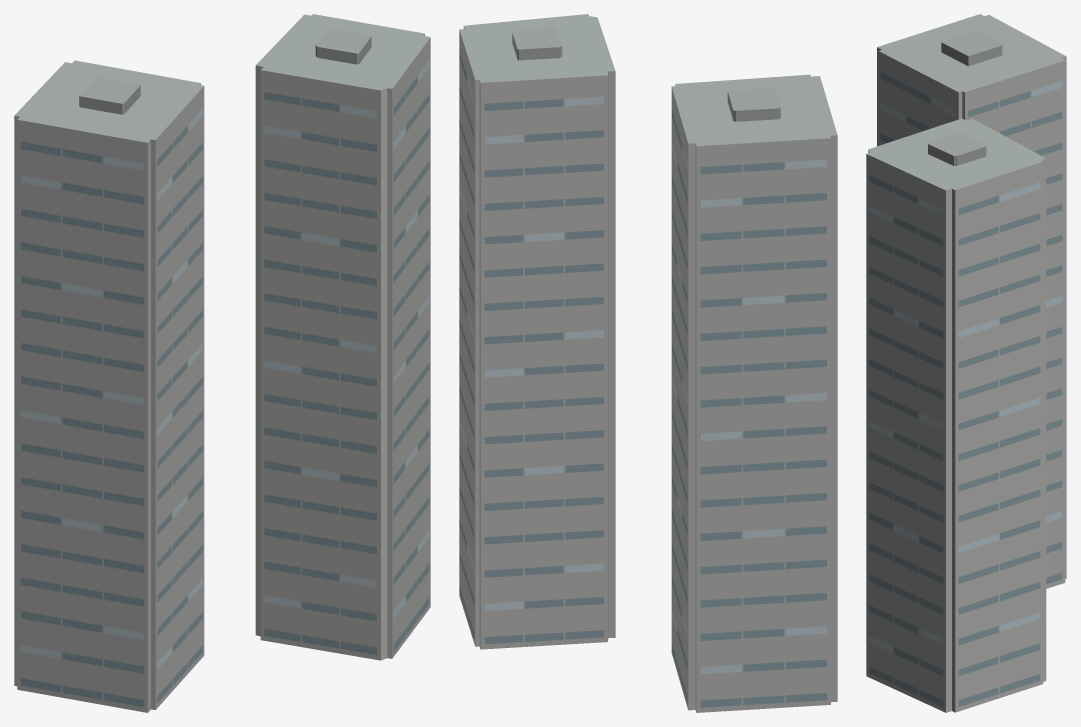
File: apt-a15089307.glb
The picture shows the model from 3 angles, left to right: view 1: azimuth 30°, elevation 25°; view 2: azimuth 150°, elevation 25°; view 3: azimuth 270°, elevation 25°; orthographic projection. The views are drawn at different scales.
Parts seen in each view (by area): view 1: apt-a15089307; view 2: apt-a15089307; view 3: apt-a15089307.
Boxes of the visible parts, box(x1,y1,x2,y2) form: apt-a15089307: box(14, 14, 430, 712); apt-a15089307: box(459, 14, 837, 712); apt-a15089307: box(866, 14, 1066, 712).
Size of the model in its own units: 90.33 by 127 by 43.26.
